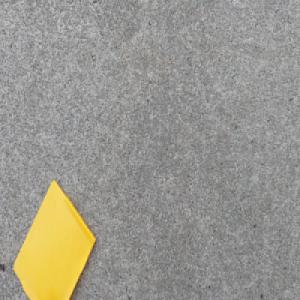PlasticPart: (13, 178, 97, 300)
